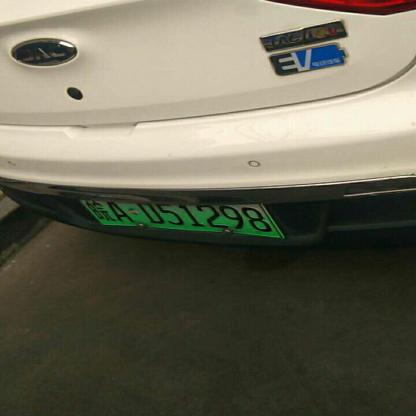lp: (80, 200, 282, 236)
